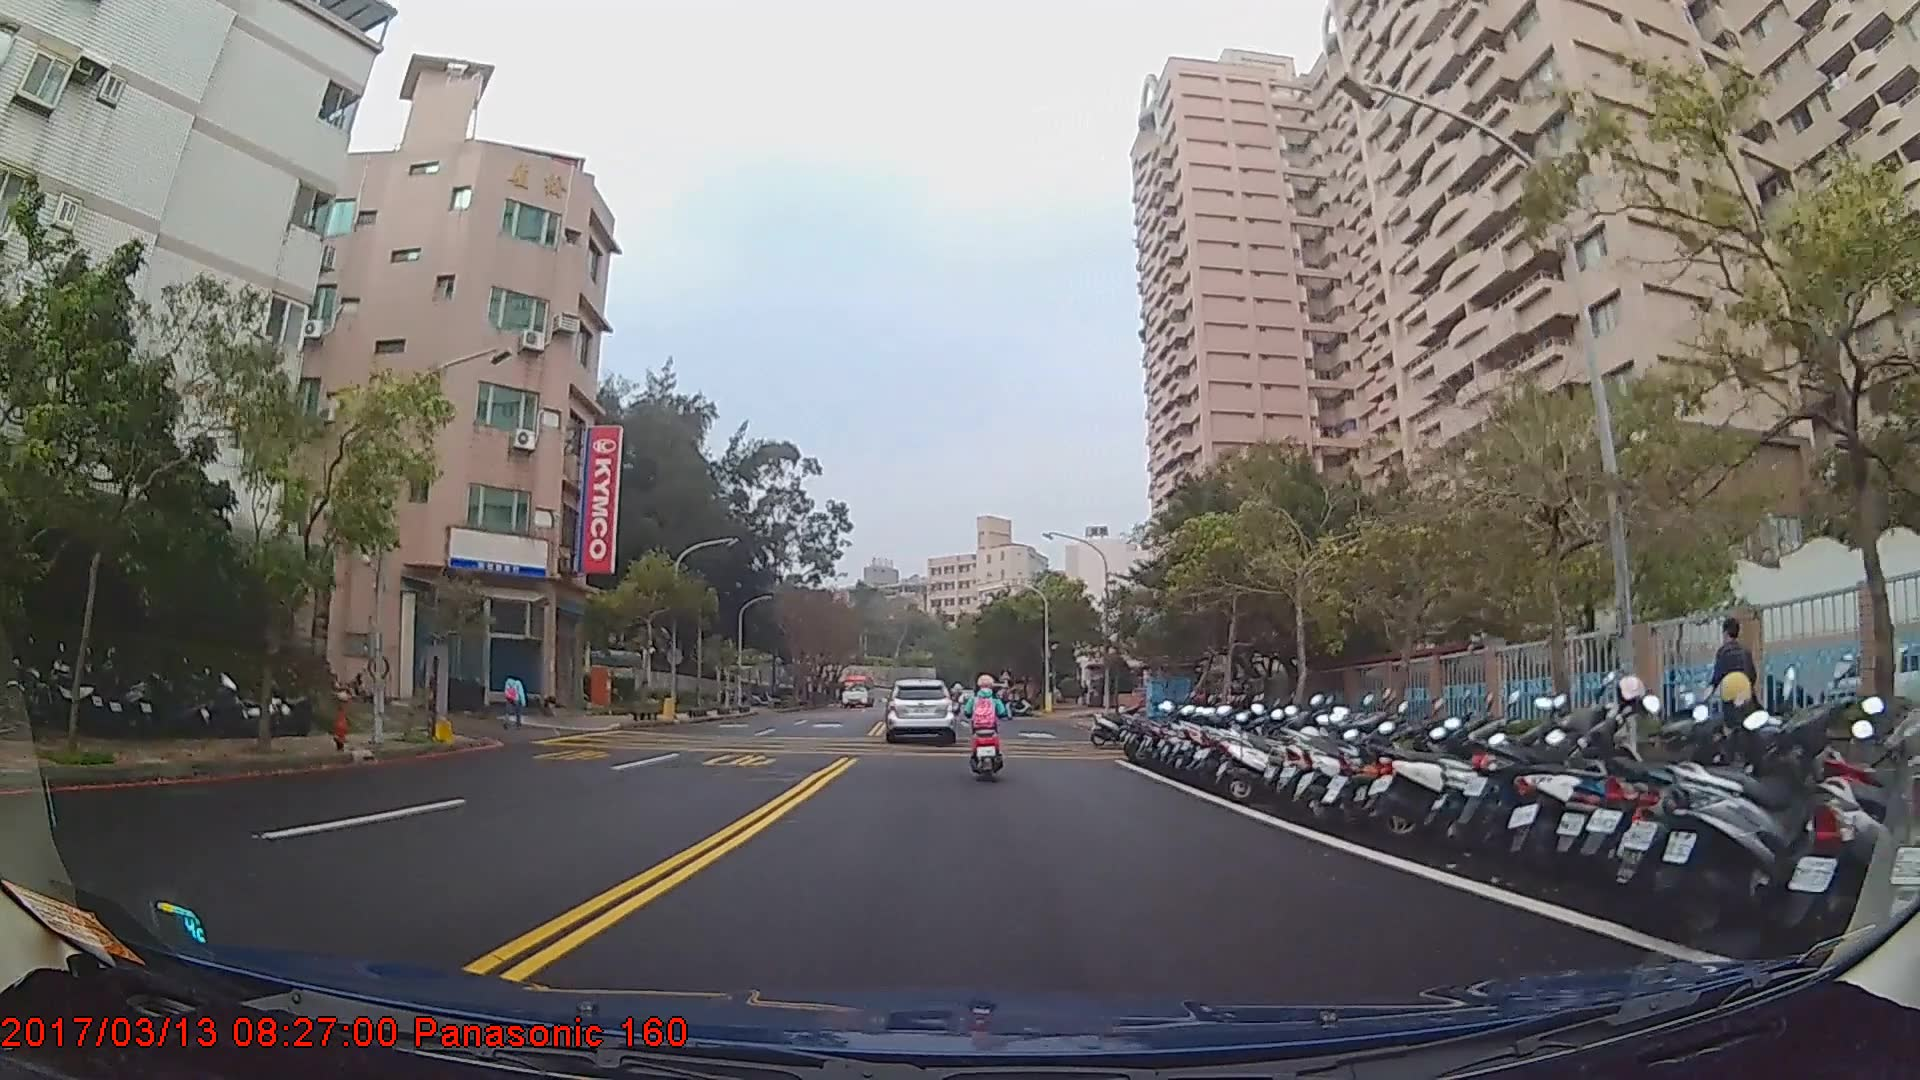pedestrian: (1707, 611, 1764, 772), (504, 668, 528, 732)
rider: (962, 666, 1010, 784)
vehicle: (884, 676, 957, 741), (838, 671, 875, 706)
